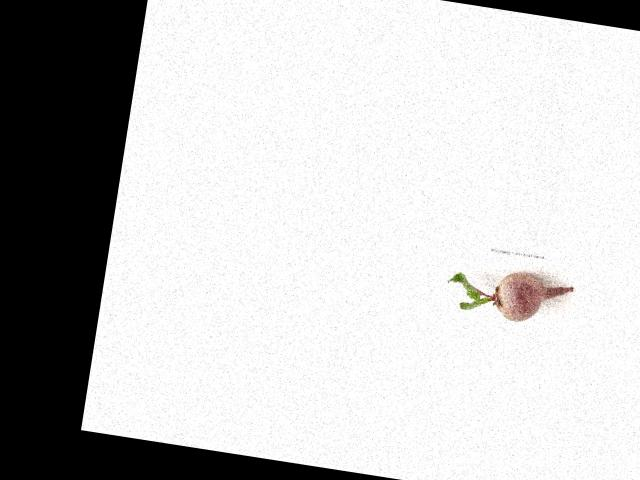beet: (442, 261, 573, 328)
